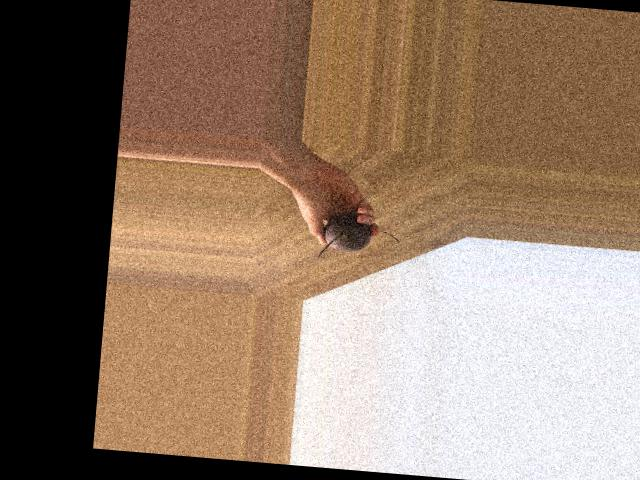beet: (318, 212, 402, 264)
